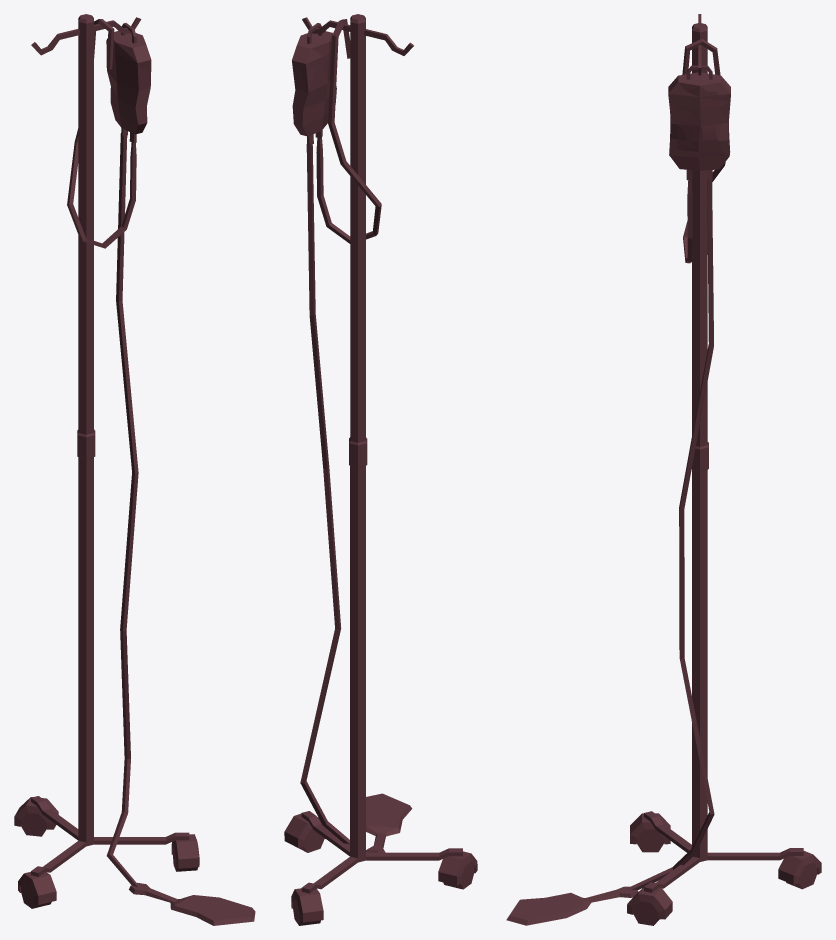
File: apocalypse-iv-pole-blood-bag.glb
3 renders of one model, left to right at view 1: azimuth 30°, elevation 25°; view 2: azimuth 150°, elevation 25°; view 3: azimuth 270°, elevation 25°, orthographic.
Parts seen in each view (by area): view 1: iv-pole-blood-bag; view 2: iv-pole-blood-bag; view 3: iv-pole-blood-bag.
Boxes of the visible parts, box(x1,y1,x2,y2) form: iv-pole-blood-bag: box(14, 14, 255, 925); iv-pole-blood-bag: box(284, 14, 477, 925); iv-pole-blood-bag: box(506, 14, 821, 925).
Size of the model in its own units: 0.4175 by 1.96 by 0.6535.
